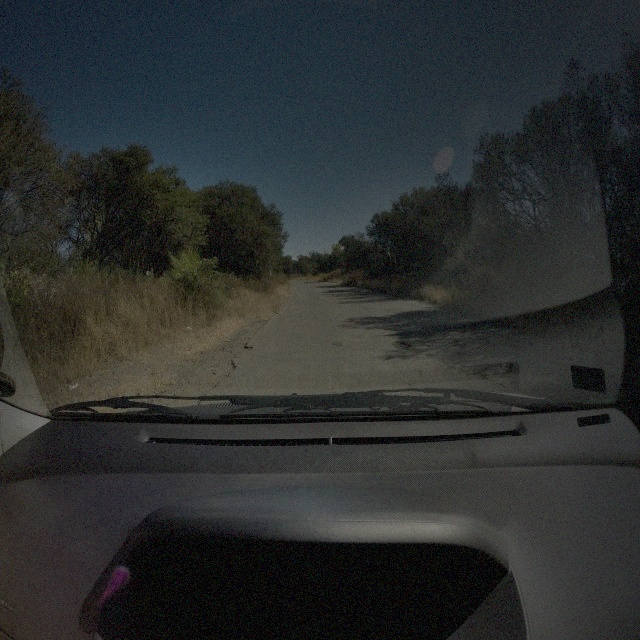pothole: (391, 337, 412, 351)
